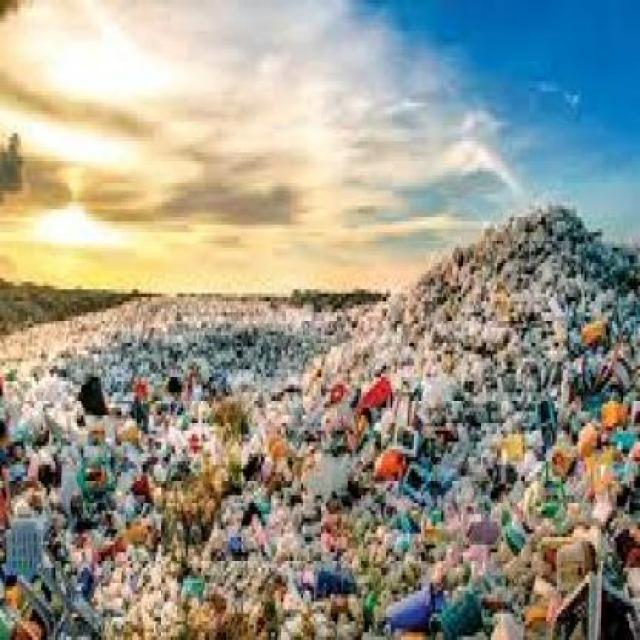garbage: (0, 286, 540, 629), (475, 202, 638, 636)
